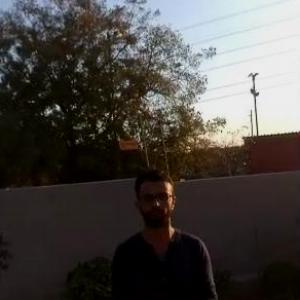follow: (105, 160, 230, 299)
